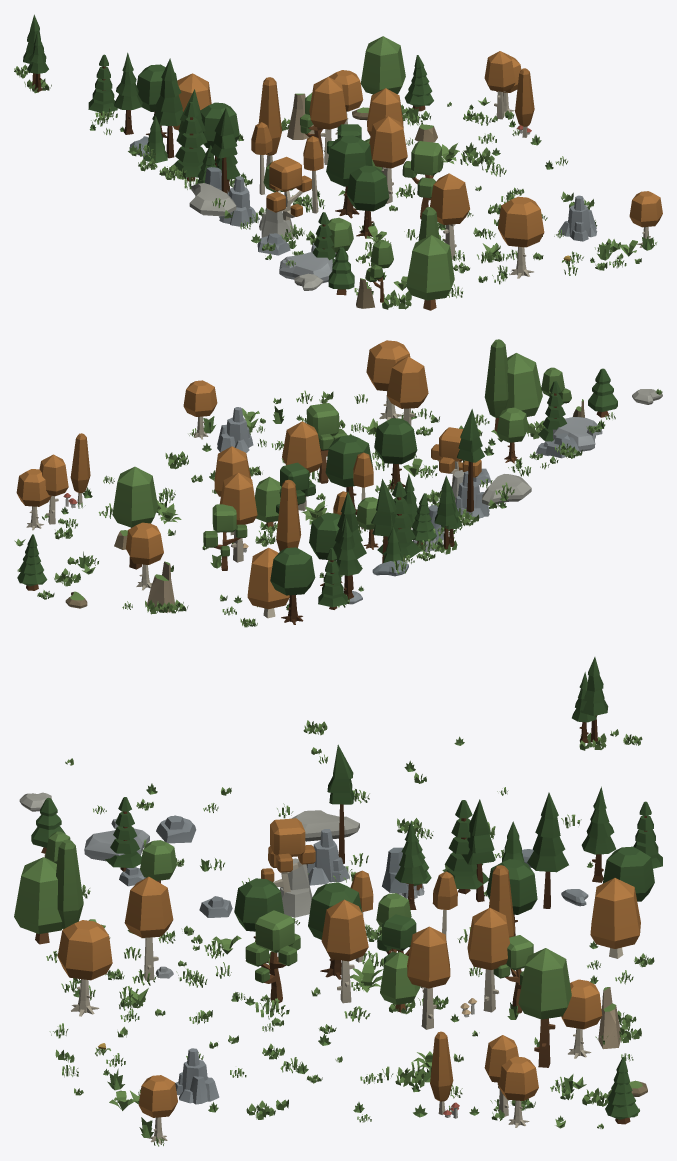
File: cell_x1_z1_render.gltf
3 views of the same model, one above another, from view 1: azimuth 30°, elevation 25°; view 2: azimuth 150°, elevation 25°; view 3: azimuth 270°, elevation 25° (orthographic). The views are drawn at different scales.
Visible parts, largest first — view 1: cell_x1_z1; view 2: cell_x1_z1; view 3: cell_x1_z1.
Part boxes in pixels (<box>): cell_x1_z1: <box>14,14,662,310</box>; cell_x1_z1: <box>14,339,662,627</box>; cell_x1_z1: <box>14,657,662,1146</box>.
Size of the model in its own units: 41.88 by 17.27 by 42.62.
